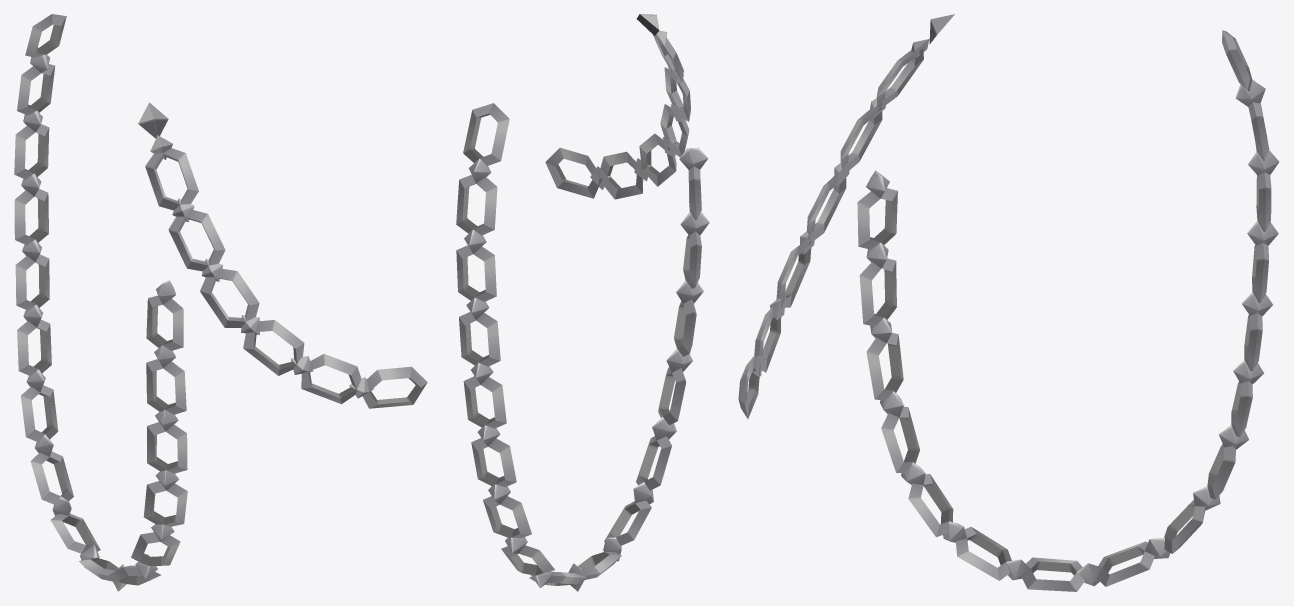
Rendered from W_ChestChains.glb.
The picture shows the model from 3 angles, left to right: view 1: azimuth 30°, elevation 25°; view 2: azimuth 150°, elevation 25°; view 3: azimuth 270°, elevation 25°; orthographic projection. The views are drawn at different scales.
Visible parts, largest first — view 1: W_ChestChains; view 2: W_ChestChains; view 3: W_ChestChains.
Boxes of the visible parts, x1,y1,x2,y2 form: W_ChestChains: (14,14,427,591); W_ChestChains: (456,14,709,591); W_ChestChains: (738,14,1279,591).
Size of the model in its own units: 0.1291 by 0.2945 by 0.2517.
1 material, 1 textured.
